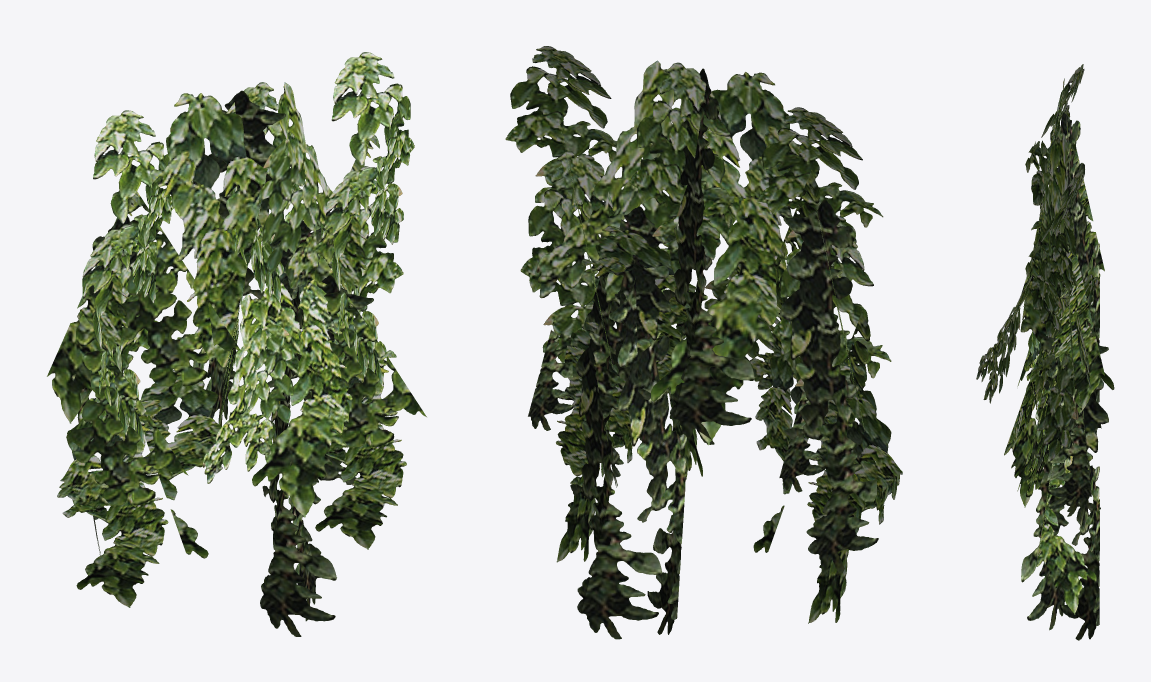
The model's file is ivy02_lod2.fbx.
The picture shows the model from 3 angles, left to right: view 1: azimuth 30°, elevation 25°; view 2: azimuth 150°, elevation 25°; view 3: azimuth 270°, elevation 25°; orthographic projection. The views are drawn at different scales.
Visible parts, largest first — view 1: Mesh Object; view 2: Mesh Object; view 3: Mesh Object.
Part boxes in pixels (x1,y1,x2,y2): Mesh Object: (47,52,426,636); Mesh Object: (505,46,902,639); Mesh Object: (976,64,1114,640).
Bounding box in the file's own units: 0.9578 × 1.28 × 0.3638.
